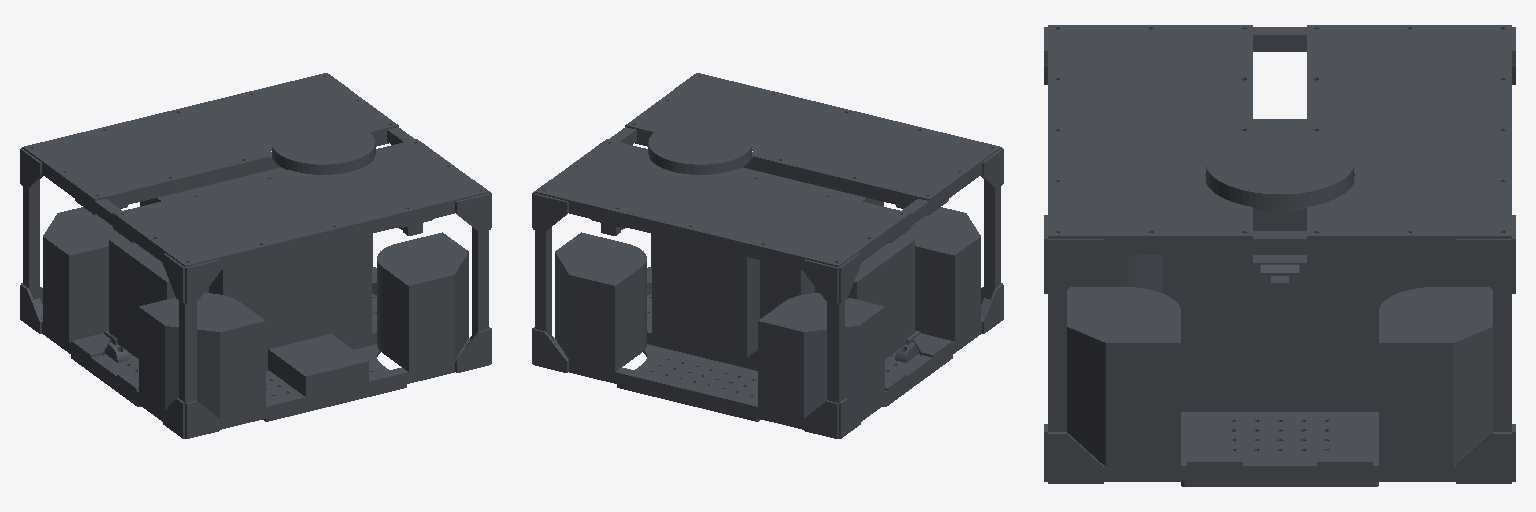
robot.urdf — tidybot_platform:
<robot name="tidybot_platform">
  <link name="base_link">
    <visual>
      <geometry>
        <mesh filename="package://retail_description/meshes/tidybot_chassis.stl" />
      </geometry>
      <material name="tidybot_gray">
        <color rgba="0.35 0.37 0.4 1" />
      </material>
    </visual>
    <collision>
      <origin xyz="0 0 0.15799999702721834" />
      <geometry>
        <box size="0.5479999966919422 0.5080000162124634 0.3159999940544367" />
      </geometry>
    </collision>
  </link>
</robot>

--- What the picture shows (computed from the rendered views, not written in the file) ---
Views: 3 orthographic renders of the robot side by side, from view 1: azimuth 30°, elevation 25°; view 2: azimuth 150°, elevation 25°; view 3: azimuth 270°, elevation 25°.
Model tidybot_platform with 1 links and 0 joints (none), rooted at base_link, posed all joints at 0.
Visible links, largest first — view 1: base_link; view 2: base_link; view 3: base_link.
Link boxes in pixels (x1,y1,x2,y2): base_link: [20, 73, 491, 438]; base_link: [532, 73, 1003, 438]; base_link: [1044, 25, 1515, 486].
Size in the robot's own frame: 0.548 by 0.508 by 0.316 metres.
Meshes: 1 distinct files referenced, 1 mesh visuals loaded (1 binary STL).
